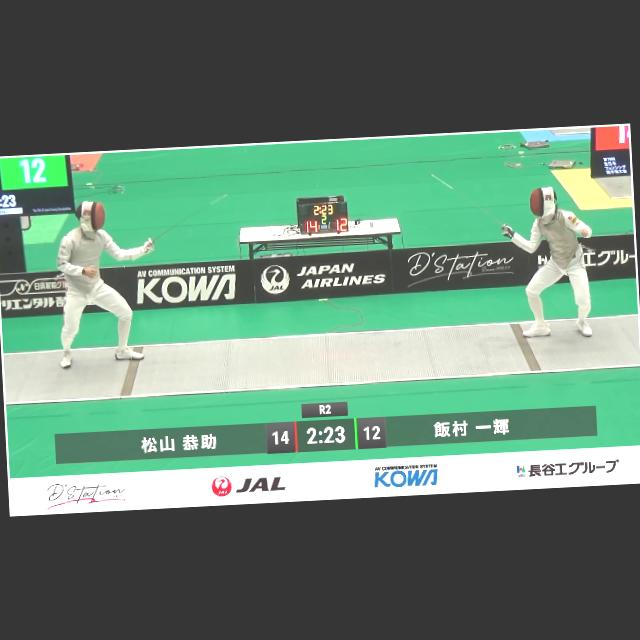blade: (426, 167, 514, 239), (137, 188, 235, 252)
